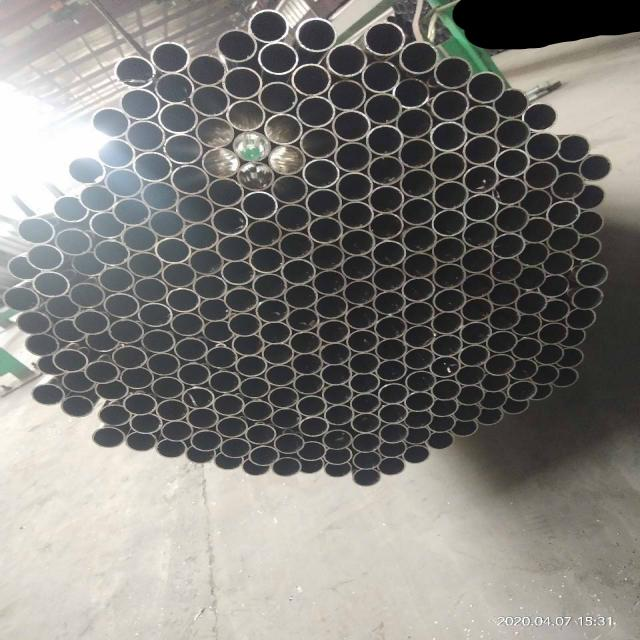pipe: (256, 40, 299, 74), (325, 43, 367, 77), (221, 66, 263, 98), (296, 18, 336, 51), (399, 41, 439, 74), (216, 29, 257, 61), (249, 10, 289, 42), (258, 81, 298, 113), (330, 110, 370, 142), (190, 84, 230, 116), (120, 88, 160, 120), (158, 101, 198, 133), (187, 55, 229, 85), (365, 22, 404, 54), (361, 60, 400, 92), (430, 89, 469, 121), (291, 63, 330, 95), (364, 124, 403, 156), (114, 55, 153, 87), (154, 72, 193, 104), (299, 128, 338, 160), (232, 130, 271, 162), (163, 133, 202, 165), (434, 57, 472, 89), (328, 79, 366, 111), (296, 95, 334, 127), (267, 143, 305, 175), (194, 117, 234, 147), (124, 120, 164, 150), (467, 71, 504, 103), (492, 87, 529, 119), (151, 41, 189, 72), (225, 100, 264, 130), (263, 114, 302, 144), (175, 194, 214, 224), (392, 78, 429, 109), (334, 141, 372, 171), (270, 173, 308, 203), (96, 138, 134, 168), (140, 181, 178, 211), (366, 156, 405, 185), (104, 168, 143, 197), (132, 152, 172, 180), (305, 187, 342, 217), (202, 147, 239, 177), (211, 206, 248, 236), (523, 131, 561, 160), (90, 108, 129, 136), (66, 156, 105, 184), (398, 108, 432, 140), (399, 139, 435, 169), (429, 151, 466, 180), (206, 178, 243, 207), (237, 162, 275, 190), (79, 184, 117, 212), (119, 224, 157, 252), (463, 105, 498, 135), (366, 94, 401, 124), (431, 122, 466, 152), (303, 158, 338, 188), (172, 164, 208, 193), (367, 212, 404, 240), (336, 200, 373, 228), (245, 218, 282, 246), (523, 102, 557, 132), (496, 118, 530, 148), (111, 198, 150, 224), (463, 136, 499, 164), (399, 168, 435, 196), (335, 172, 371, 200), (241, 191, 277, 219), (182, 222, 218, 250), (89, 212, 127, 238), (25, 244, 63, 270), (32, 270, 70, 296), (105, 317, 143, 343), (495, 148, 530, 176), (524, 162, 559, 190), (492, 177, 527, 205), (432, 181, 467, 209), (400, 197, 435, 225), (368, 184, 403, 212), (149, 209, 184, 237), (94, 239, 129, 267), (56, 228, 92, 255), (215, 234, 252, 260), (153, 236, 190, 262), (68, 282, 105, 308), (463, 165, 497, 193), (464, 193, 498, 221), (494, 205, 528, 233), (462, 221, 497, 248), (431, 210, 467, 236), (275, 204, 311, 230), (306, 217, 342, 243), (277, 232, 313, 258), (249, 247, 285, 273), (17, 217, 53, 243), (126, 252, 162, 278), (104, 292, 140, 318), (2, 286, 39, 311), (556, 134, 589, 162), (551, 171, 584, 199), (431, 236, 464, 264), (402, 225, 436, 252), (310, 243, 344, 270), (14, 310, 52, 334), (490, 232, 525, 258), (431, 262, 466, 288), (401, 252, 436, 278), (280, 258, 315, 284), (53, 196, 88, 222), (162, 262, 197, 288), (71, 251, 107, 276), (519, 188, 551, 216), (51, 347, 88, 371), (519, 217, 553, 243), (371, 240, 405, 266), (371, 265, 405, 291), (314, 293, 348, 319), (193, 274, 227, 300), (578, 154, 612, 180), (223, 288, 259, 312), (137, 302, 173, 326), (546, 200, 579, 226), (460, 247, 493, 273), (252, 272, 285, 298), (99, 266, 132, 292), (540, 250, 574, 275), (284, 284, 318, 309), (140, 328, 174, 353), (371, 290, 406, 314), (342, 280, 377, 304), (340, 255, 375, 279), (340, 230, 375, 254), (311, 270, 346, 294), (7, 256, 42, 280), (227, 312, 262, 336), (85, 328, 120, 352), (93, 377, 128, 401), (570, 234, 601, 261), (516, 241, 548, 267), (345, 304, 377, 330), (574, 263, 608, 287), (460, 274, 494, 298), (286, 307, 320, 331), (256, 298, 290, 322), (170, 312, 204, 336), (46, 294, 80, 318), (574, 183, 604, 210), (572, 210, 603, 236), (546, 227, 579, 251), (570, 286, 603, 310), (513, 266, 546, 290), (459, 321, 492, 345), (432, 288, 465, 312), (401, 301, 434, 325), (374, 315, 407, 339), (222, 260, 255, 284), (133, 277, 166, 301), (167, 287, 200, 311), (74, 310, 107, 334), (111, 346, 147, 368), (52, 318, 85, 342), (24, 333, 60, 355), (121, 393, 157, 415), (97, 404, 131, 427), (61, 370, 96, 392), (538, 274, 570, 298), (514, 290, 546, 314), (460, 298, 492, 322), (190, 250, 222, 274), (317, 319, 349, 343), (177, 362, 209, 386), (345, 329, 378, 352), (290, 352, 323, 375), (173, 337, 206, 360), (155, 398, 188, 421), (232, 334, 266, 356), (83, 361, 117, 383), (536, 322, 567, 346), (189, 429, 221, 452), (564, 308, 597, 330), (401, 278, 434, 300), (257, 321, 290, 343), (288, 331, 321, 353), (204, 346, 237, 368), (146, 353, 179, 375), (119, 367, 152, 389), (150, 376, 183, 398), (30, 383, 63, 405), (59, 395, 92, 417), (128, 412, 161, 434), (92, 426, 125, 448), (489, 282, 519, 306), (511, 314, 543, 336), (506, 379, 538, 401), (490, 258, 522, 280), (488, 308, 520, 330), (484, 354, 516, 376), (429, 355, 461, 377), (402, 324, 434, 346), (198, 298, 230, 320), (262, 343, 294, 365), (234, 355, 266, 377), (237, 376, 270, 397), (511, 337, 542, 359), (458, 344, 489, 366), (403, 347, 434, 369), (375, 338, 406, 360), (375, 359, 406, 381), (203, 320, 234, 342), (264, 364, 295, 386), (267, 386, 298, 408), (216, 416, 247, 438), (186, 407, 218, 428), (125, 431, 157, 452), (553, 345, 583, 367), (539, 299, 569, 321), (486, 331, 516, 353), (432, 311, 462, 333), (432, 334, 462, 356), (347, 372, 380, 392), (348, 352, 378, 374), (210, 370, 240, 392), (154, 438, 187, 458), (548, 366, 579, 387), (405, 371, 436, 392), (181, 387, 212, 408), (295, 440, 326, 461), (210, 394, 242, 414), (213, 450, 245, 470), (323, 403, 352, 425), (275, 432, 304, 454), (319, 343, 349, 364), (296, 395, 326, 416), (532, 344, 563, 364), (319, 364, 350, 384), (245, 424, 276, 444), (160, 420, 191, 440), (219, 438, 250, 458), (271, 407, 299, 429), (529, 364, 559, 384), (506, 359, 536, 379), (479, 372, 509, 392), (477, 390, 507, 410), (456, 365, 486, 385), (431, 379, 461, 399), (376, 383, 406, 403), (350, 412, 380, 432), (350, 393, 380, 413), (36, 355, 66, 375), (248, 445, 278, 465), (185, 444, 215, 464), (473, 406, 502, 426), (405, 391, 434, 411), (378, 423, 407, 443), (293, 373, 322, 393), (323, 383, 352, 403), (295, 454, 324, 474), (241, 456, 270, 476), (559, 325, 585, 347), (270, 457, 300, 476), (456, 385, 484, 405), (429, 397, 457, 417), (378, 403, 406, 423), (244, 400, 272, 420), (299, 416, 327, 436), (321, 429, 350, 448), (403, 424, 430, 444), (353, 432, 380, 452), (500, 396, 529, 414), (352, 468, 381, 486), (352, 451, 381, 469), (427, 413, 455, 431), (378, 456, 406, 474), (324, 459, 352, 477), (377, 440, 406, 457), (453, 403, 480, 421), (450, 419, 477, 437), (324, 446, 351, 464), (425, 431, 453, 448), (527, 381, 552, 400), (403, 445, 429, 463), (405, 410, 431, 428)
